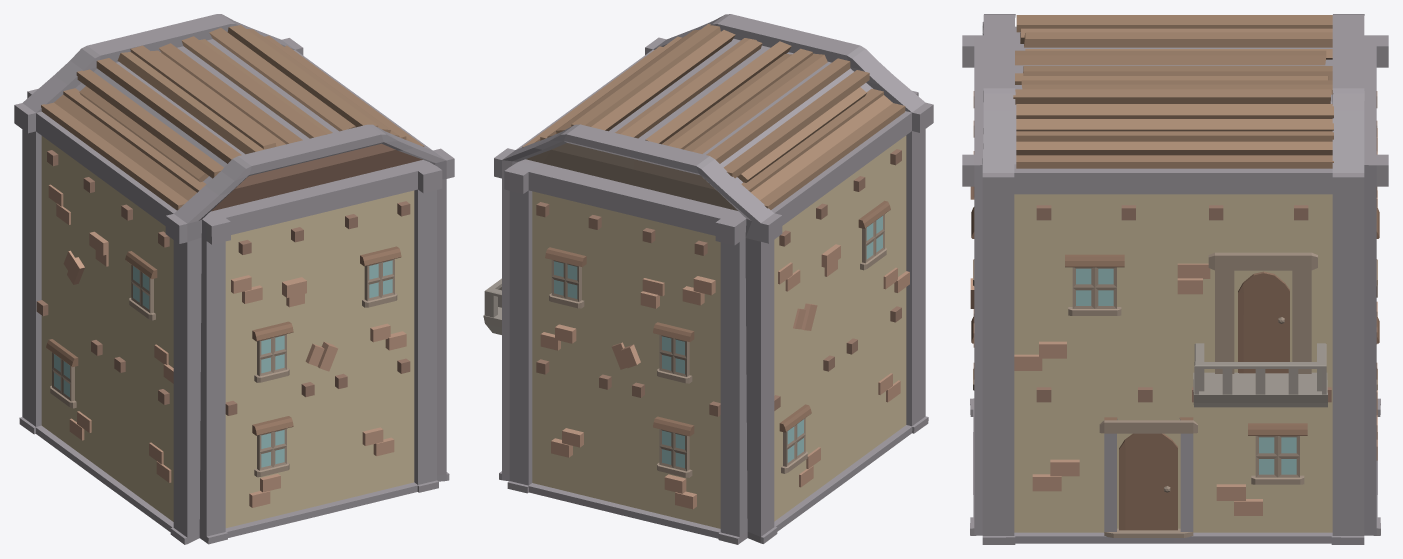
Rendered from gebouwen.fbx.
The picture shows the model from 3 angles, left to right: view 1: azimuth 30°, elevation 25°; view 2: azimuth 150°, elevation 25°; view 3: azimuth 270°, elevation 25°; orthographic projection. The views are drawn at different scales.
Visible parts, largest first — view 1: Huis01; view 2: Huis01; view 3: Huis01.
Boxes of the visible parts, box(x1,y1,x2,y2) form: Huis01: box(14, 14, 454, 544); Huis01: box(483, 14, 933, 544); Huis01: box(962, 14, 1388, 544).
Size of the model in its own units: 827 by 949 by 876.
